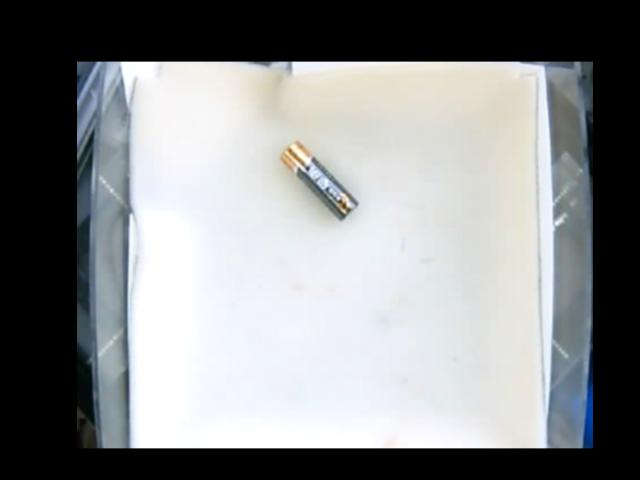Battery: (279, 139, 359, 221)
